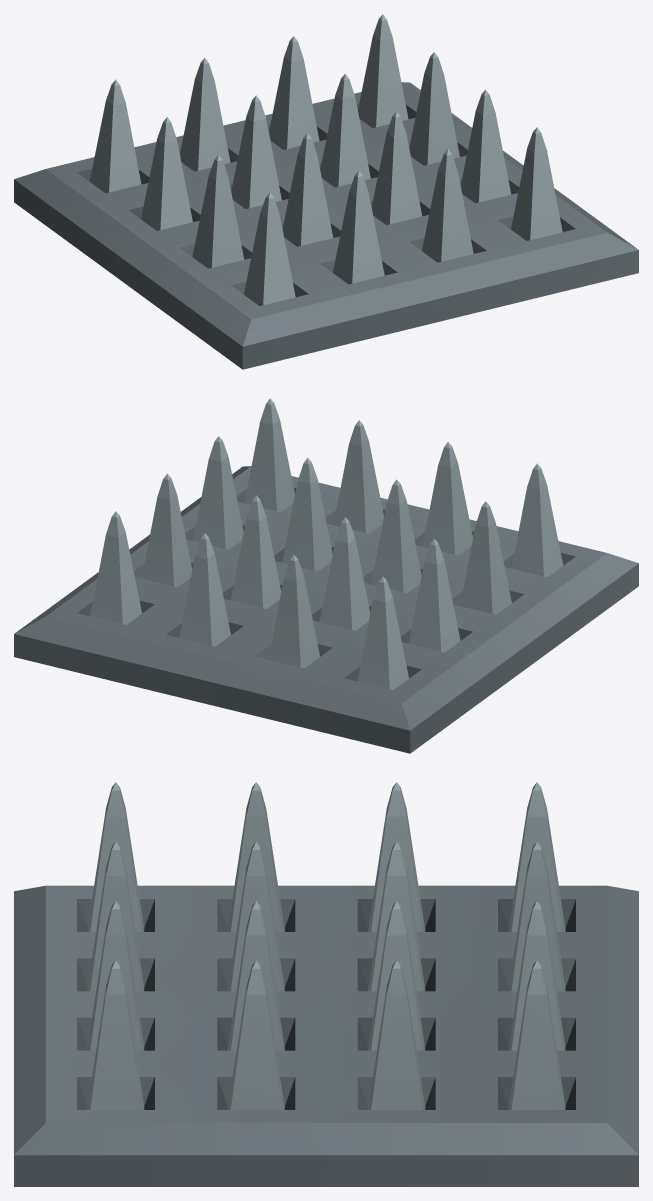
File: spikes.glb
3 views of the same model, one above another, from view 1: azimuth 30°, elevation 25°; view 2: azimuth 150°, elevation 25°; view 3: azimuth 270°, elevation 25° (orthographic). The views are drawn at different scales.
Parts seen in each view (by area): view 1: spikes, prickle; view 2: spikes, prickle; view 3: spikes, prickle.
Part boxes in pixels (<box>): spikes: <box>14,82,638,369</box>; prickle: <box>89,14,562,305</box>; spikes: <box>14,466,638,753</box>; prickle: <box>90,398,563,689</box>; spikes: <box>14,885,638,1186</box>; prickle: <box>87,782,565,1109</box>.
Bounding box in the file's own units: 0.9668 × 0.3134 × 0.9668.
Materials: 1 (1 with a texture image).
